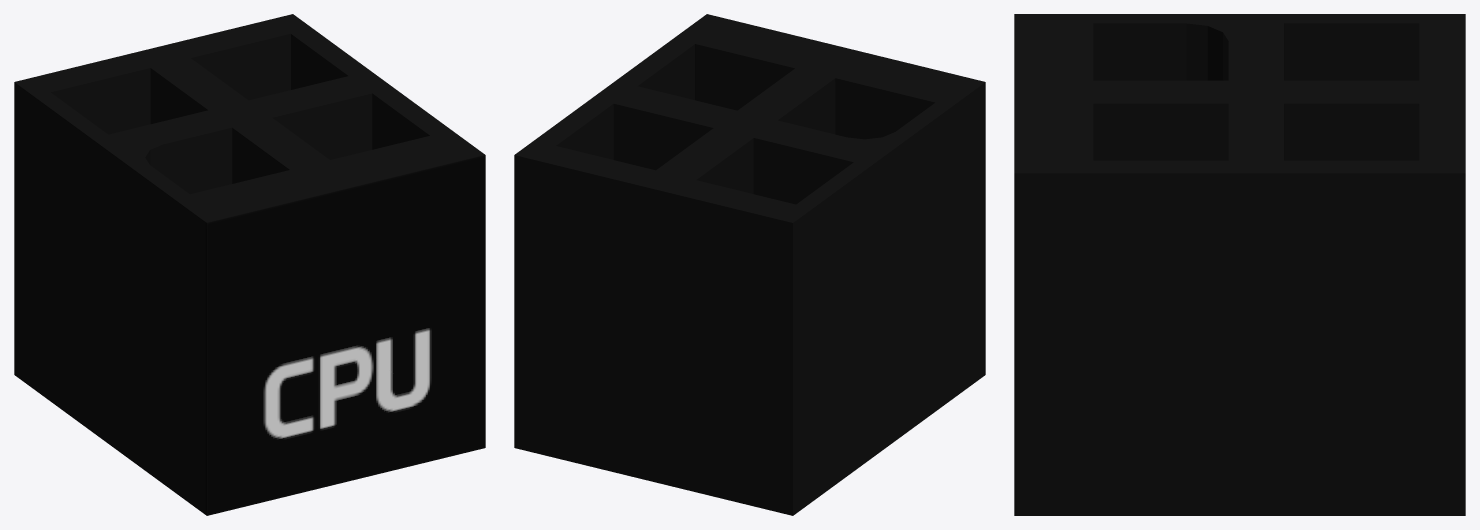
Rendered from cpu-pcie3.fbx.
The picture shows the model from 3 angles, left to right: view 1: azimuth 30°, elevation 25°; view 2: azimuth 150°, elevation 25°; view 3: azimuth 270°, elevation 25°; orthographic projection. The views are drawn at different scales.
Visible parts, largest first — view 1: 立方體.014; view 2: 立方體.014; view 3: 立方體.014.
Part boxes in pixels (left/top/right/bottom): 立方體.014: left=14, top=14, right=485, bottom=515; 立方體.014: left=514, top=14, right=985, bottom=515; 立方體.014: left=1014, top=14, right=1465, bottom=515.
Size of the model in its own units: 22.81 by 22.91 by 27.32.
